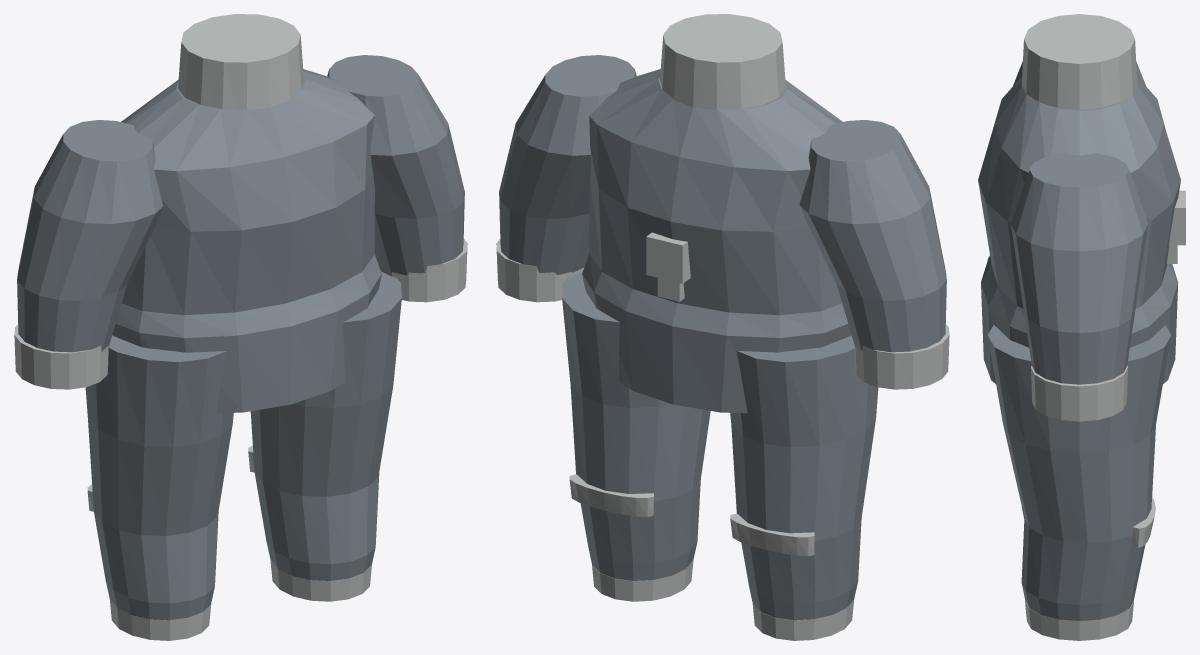
The picture shows the model from 3 angles, left to right: view 1: azimuth 30°, elevation 25°; view 2: azimuth 150°, elevation 25°; view 3: azimuth 270°, elevation 25°; orthographic projection. The views are drawn at different scales.
Parts seen in each view (by area): view 1: CHAR-061; view 2: CHAR-061; view 3: CHAR-061.
Boxes of the visible parts, x1,y1,x2,y2 form: CHAR-061: [14, 14, 467, 640]; CHAR-061: [496, 14, 949, 640]; CHAR-061: [978, 14, 1185, 640].
Size of the model in its own units: 0.3013 by 0.3668 by 0.127.
2 materials, 2 textured.
